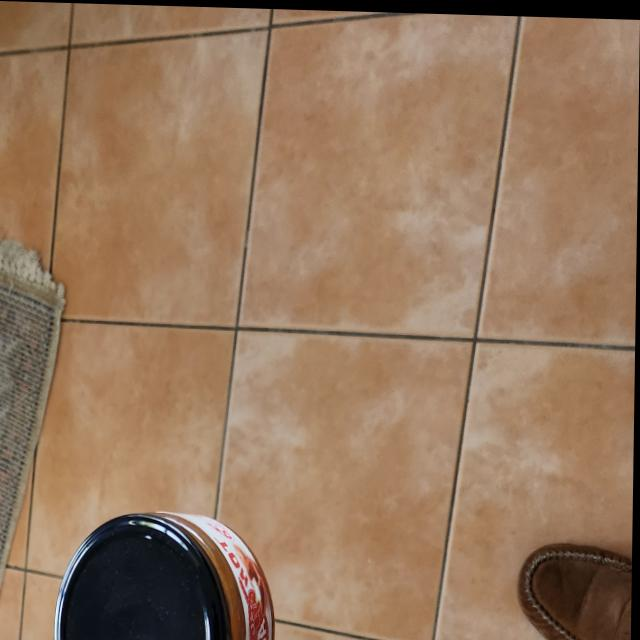salsa: (54, 501, 279, 640)
